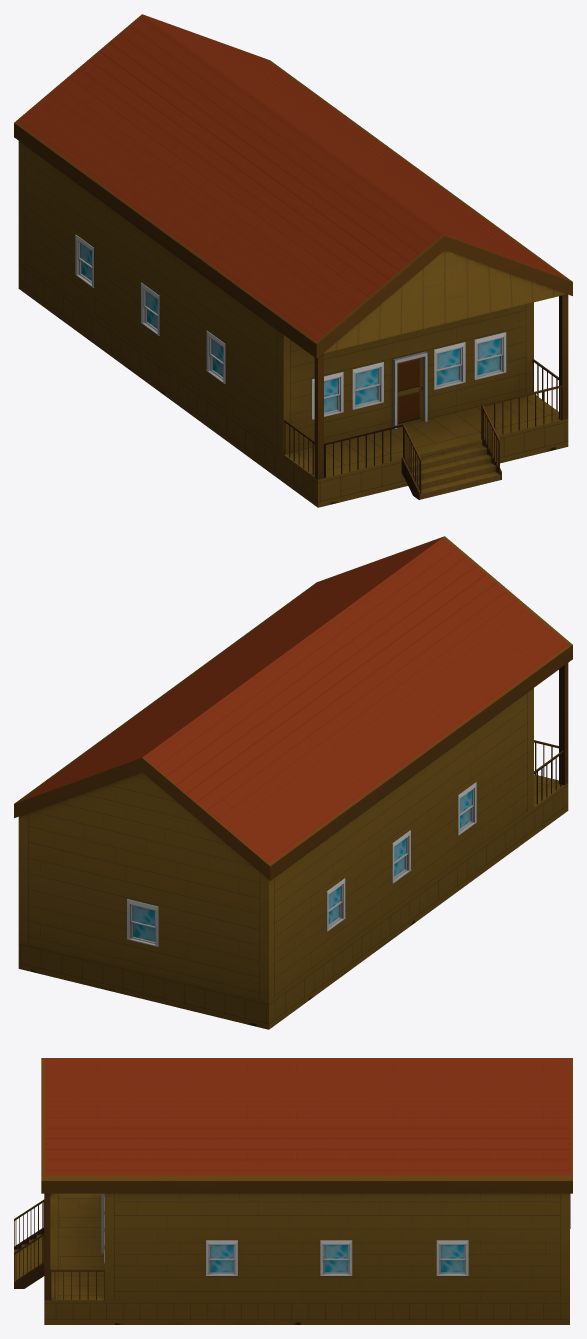
Rendered from House1.fbx.
The picture shows the model from 3 angles, top to bottom: view 1: azimuth 30°, elevation 25°; view 2: azimuth 150°, elevation 25°; view 3: azimuth 270°, elevation 25°; orthographic projection. The views are drawn at different scales.
Parts seen in each view (by area): view 1: H1Roof, H1House, H1Foundation, H1Windows; view 2: H1Roof, H1House, H1Foundation, H1Windows; view 3: H1Roof, H1House, H1Foundation, H1Windows.
Boxes of the visible parts, left/top/right/bottom form: H1Roof: left=14, top=14, right=572, bottom=358; H1House: left=18, top=141, right=533, bottom=454; H1Foundation: left=18, top=261, right=568, bottom=507; H1Windows: left=75, top=234, right=568, bottom=499; H1Roof: left=14, top=536, right=572, bottom=880; H1House: left=18, top=688, right=533, bottom=1001; H1Foundation: left=18, top=774, right=568, bottom=1029; H1Windows: left=127, top=663, right=568, bottom=946; H1Roof: left=41, top=1058, right=572, bottom=1193; H1House: left=104, top=1193, right=569, bottom=1300; H1Foundation: left=44, top=1193, right=569, bottom=1324; H1Windows: left=14, top=1193, right=570, bottom=1300.
Size of the model in its own units: 339 by 307 by 729.
